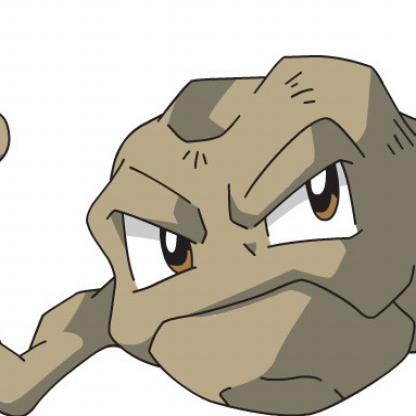Geodude: (5, 36, 416, 416)
